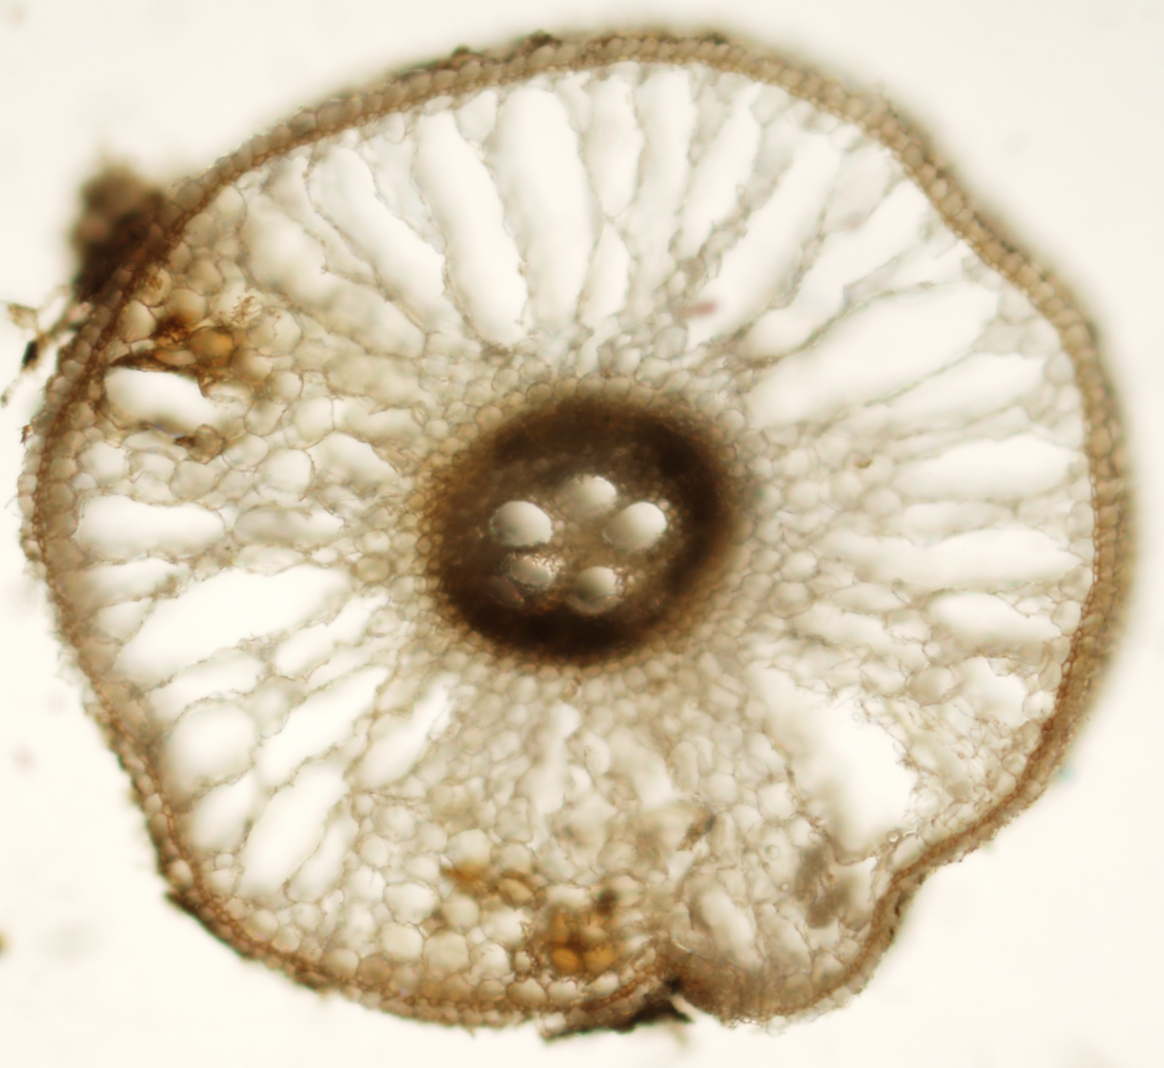lm: (485, 552, 564, 608), (602, 501, 667, 552), (553, 473, 616, 523), (564, 566, 626, 615), (489, 500, 552, 546)
